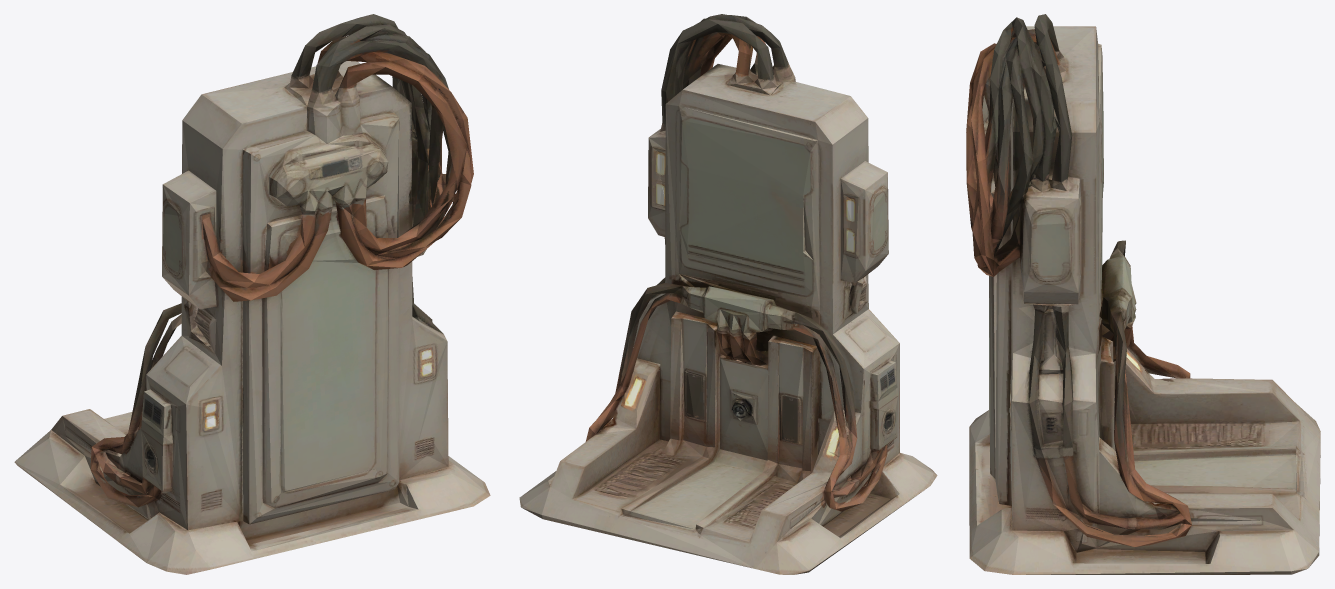
Rendered from P_PowerBox_001.obj.
3 views of the same model, side by side, from view 1: azimuth 30°, elevation 25°; view 2: azimuth 150°, elevation 25°; view 3: azimuth 270°, elevation 25° (orthographic). The views are drawn at different scales.
Bounding box in the file's own units: 1.09 × 1.5 × 0.972.
Materials: 1 (1 with a texture image).
